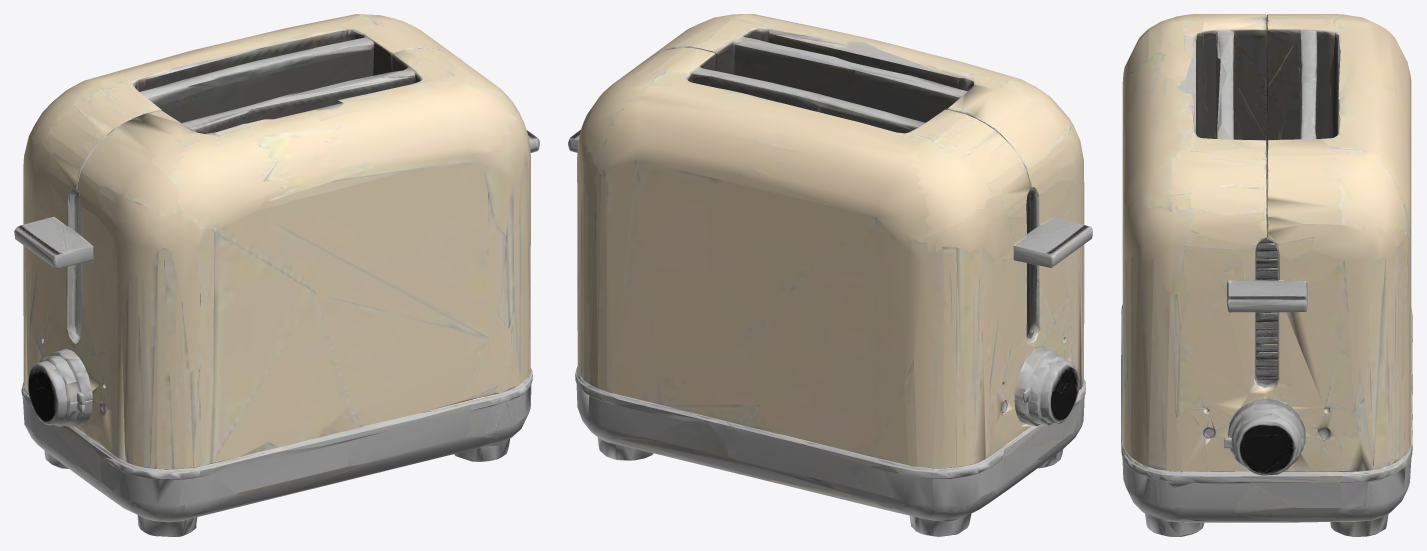
Rendered from toaster.glb.
The picture shows the model from 3 angles, left to right: view 1: azimuth 30°, elevation 25°; view 2: azimuth 150°, elevation 25°; view 3: azimuth 270°, elevation 25°; orthographic projection.
Bounding box in the file's own units: 1.9 × 1.4 × 1.01.
Materials: 1 (1 with a texture image).
